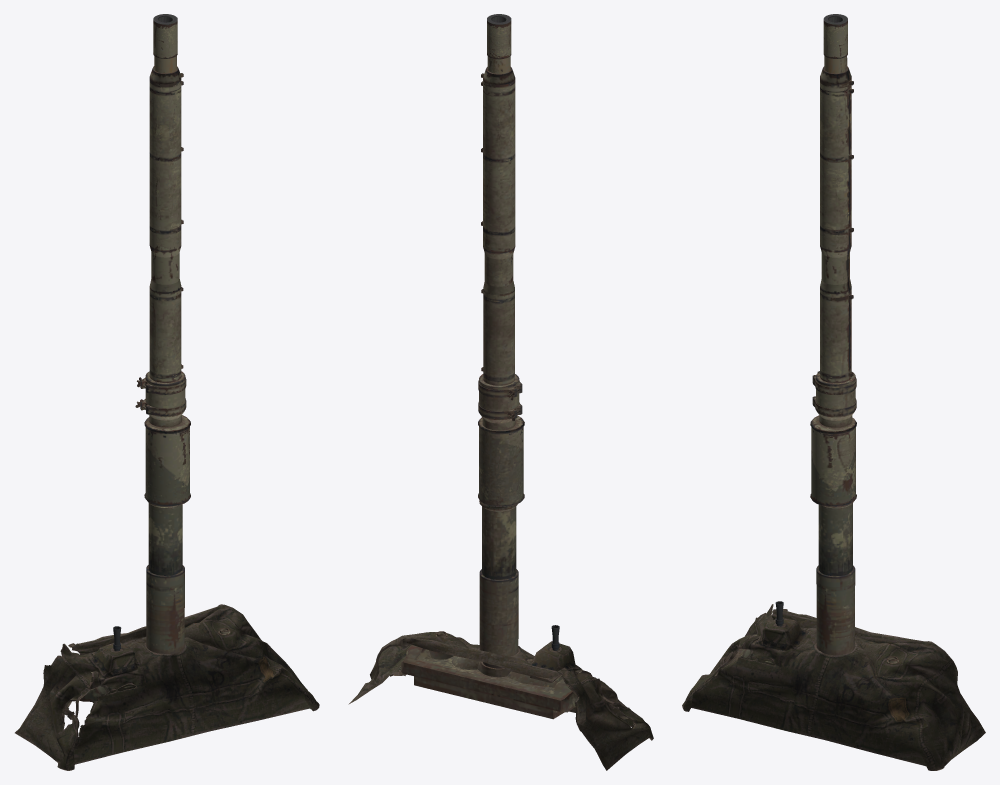
File: Gun_07.glb
3 renders of one model, left to right at view 1: azimuth 30°, elevation 25°; view 2: azimuth 150°, elevation 25°; view 3: azimuth 330°, elevation 25°, orthographic.
Visible parts, largest first — view 1: set_0_group_0; view 2: set_0_group_0; view 3: set_0_group_0.
Boxes of the visible parts, left/top/right/bottom form: set_0_group_0: left=15, top=14, right=319, bottom=770; set_0_group_0: left=348, top=14, right=653, bottom=770; set_0_group_0: left=682, top=14, right=985, bottom=770.
Bounding box in the file's own units: 2.11 × 5.43 × 0.7049.
Materials: 1 (1 with a texture image).
